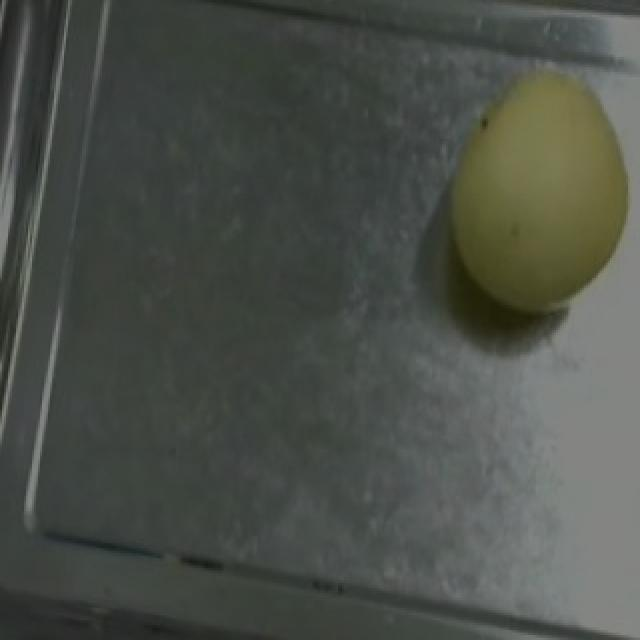Fruit: (420, 47, 640, 337)
